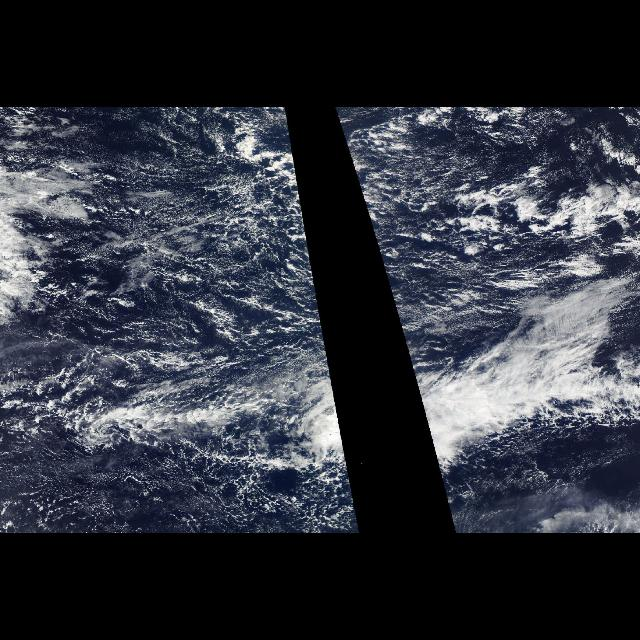Gravel: (2, 108, 360, 532), (334, 108, 501, 532)
Sugar: (391, 136, 494, 342)
